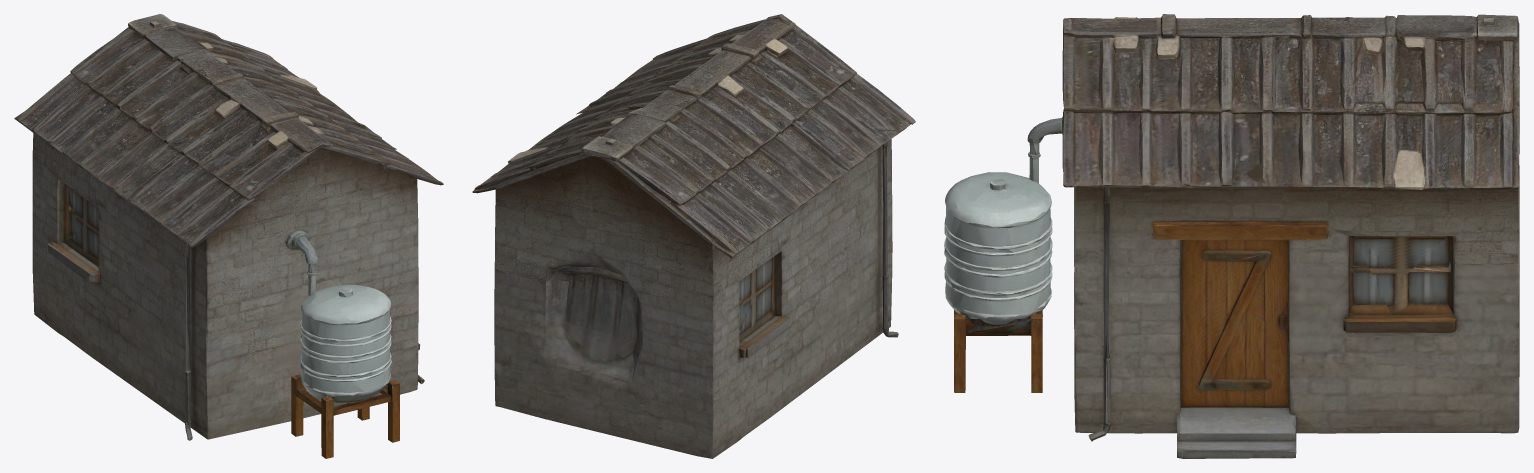
File: pump_house.glb
The picture shows the model from 3 angles, left to right: view 1: azimuth 30°, elevation 25°; view 2: azimuth 150°, elevation 25°; view 3: azimuth 270°, elevation 25°; orthographic projection. The views are drawn at different scales.
Visible parts, largest first — view 1: wall, roof; view 2: wall, roof; view 3: wall, roof.
Part boxes in pixels (left/top/right/bottom): wall: left=14, top=22, right=443, bottom=458; roof: left=14, top=14, right=442, bottom=273; wall: left=472, top=16, right=915, bottom=458; roof: left=472, top=14, right=914, bottom=256; wall: left=944, top=15, right=1519, bottom=458; roof: left=1028, top=14, right=1519, bottom=236.
Size of the model in its own units: 3.93 by 3.8 by 5.61.
Materials: 1 (1 with a texture image).
